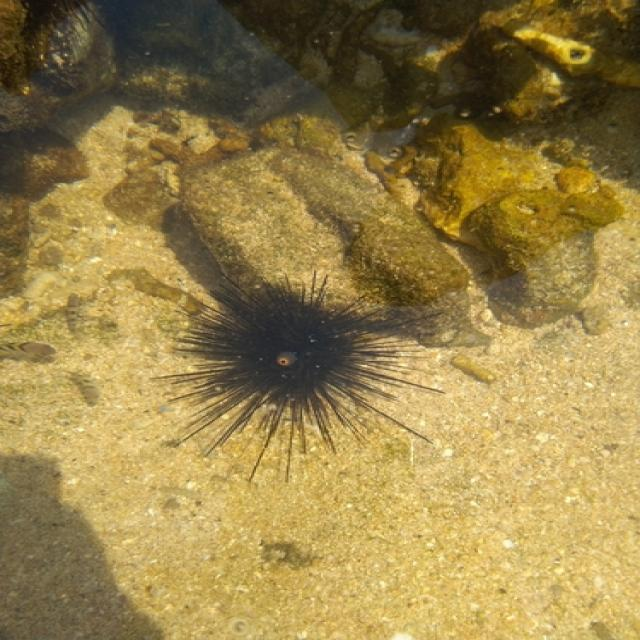Urchin: (150, 271, 447, 485)
